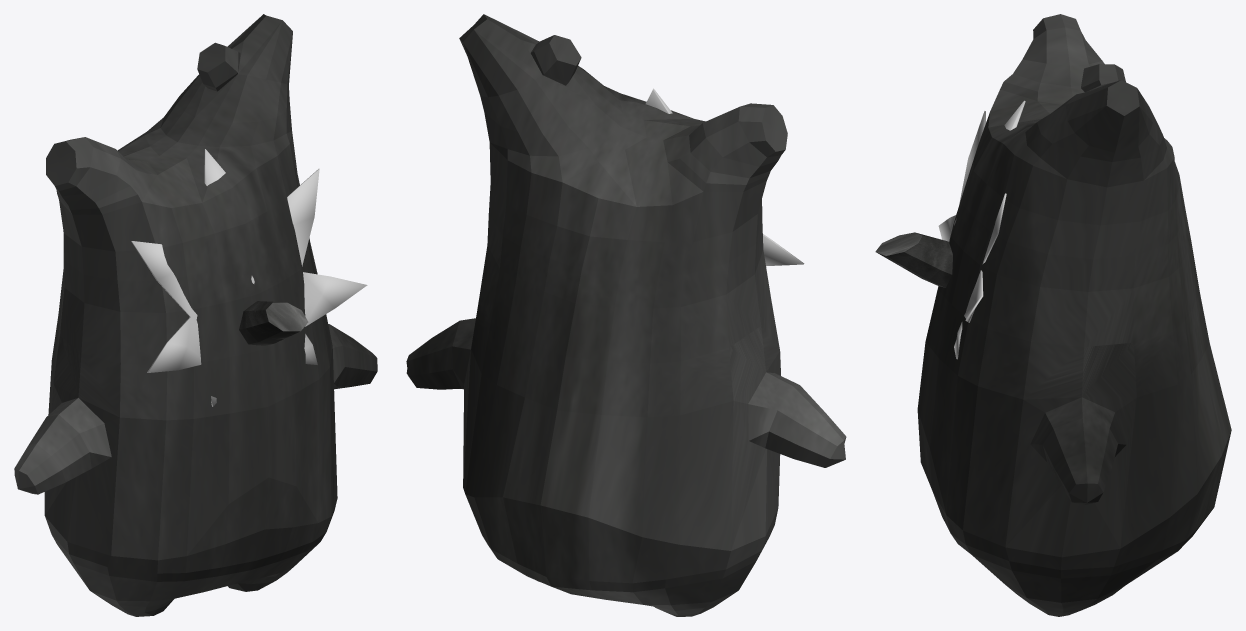
The model's file is frame_0016.obj.
3 views of the same model, side by side, from view 1: azimuth 30°, elevation 25°; view 2: azimuth 150°, elevation 25°; view 3: azimuth 270°, elevation 25° (orthographic). The views are drawn at different scales.
Parts seen in each view (by area): view 1: korok, leaf, nose.003_柱体.011; view 2: korok, leaf; view 3: korok, nose.003_柱体.011, leaf.
Boxes of the visible parts, x1=… form: korok: x1=14, y1=14, x2=377, y2=616; leaf: x1=131, y1=149, x2=367, y2=406; nose.003_柱体.011: x1=239, y1=301, x2=308, y2=345; korok: x1=406, y1=14, x2=846, y2=616; leaf: x1=645, y1=88, x2=804, y2=266; korok: x1=917, y1=14, x2=1231, y2=616; nose.003_柱体.011: x1=875, y1=232, x2=952, y2=287; leaf: x1=938, y1=100, x2=1025, y2=359.
Size of the model in its own units: 1.7 by 2.28 by 1.32.
